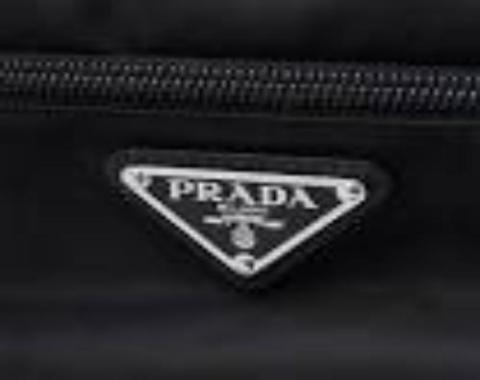PRADA: (169, 174, 320, 210)
